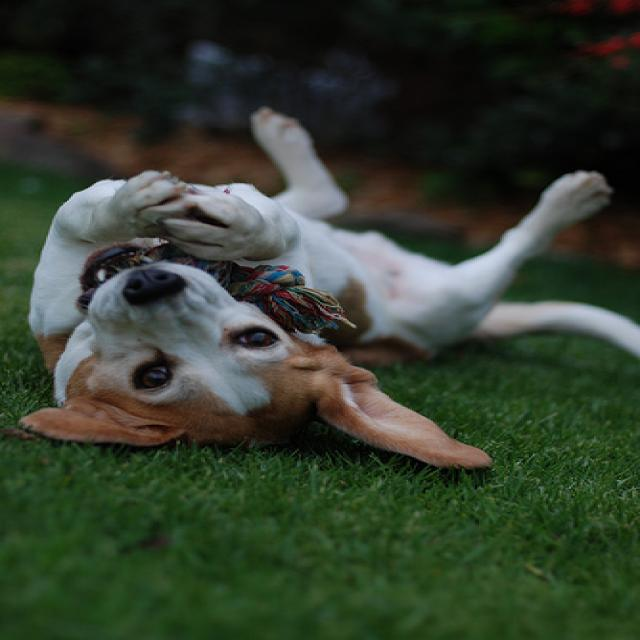dog-beagle: (6, 106, 636, 472)
